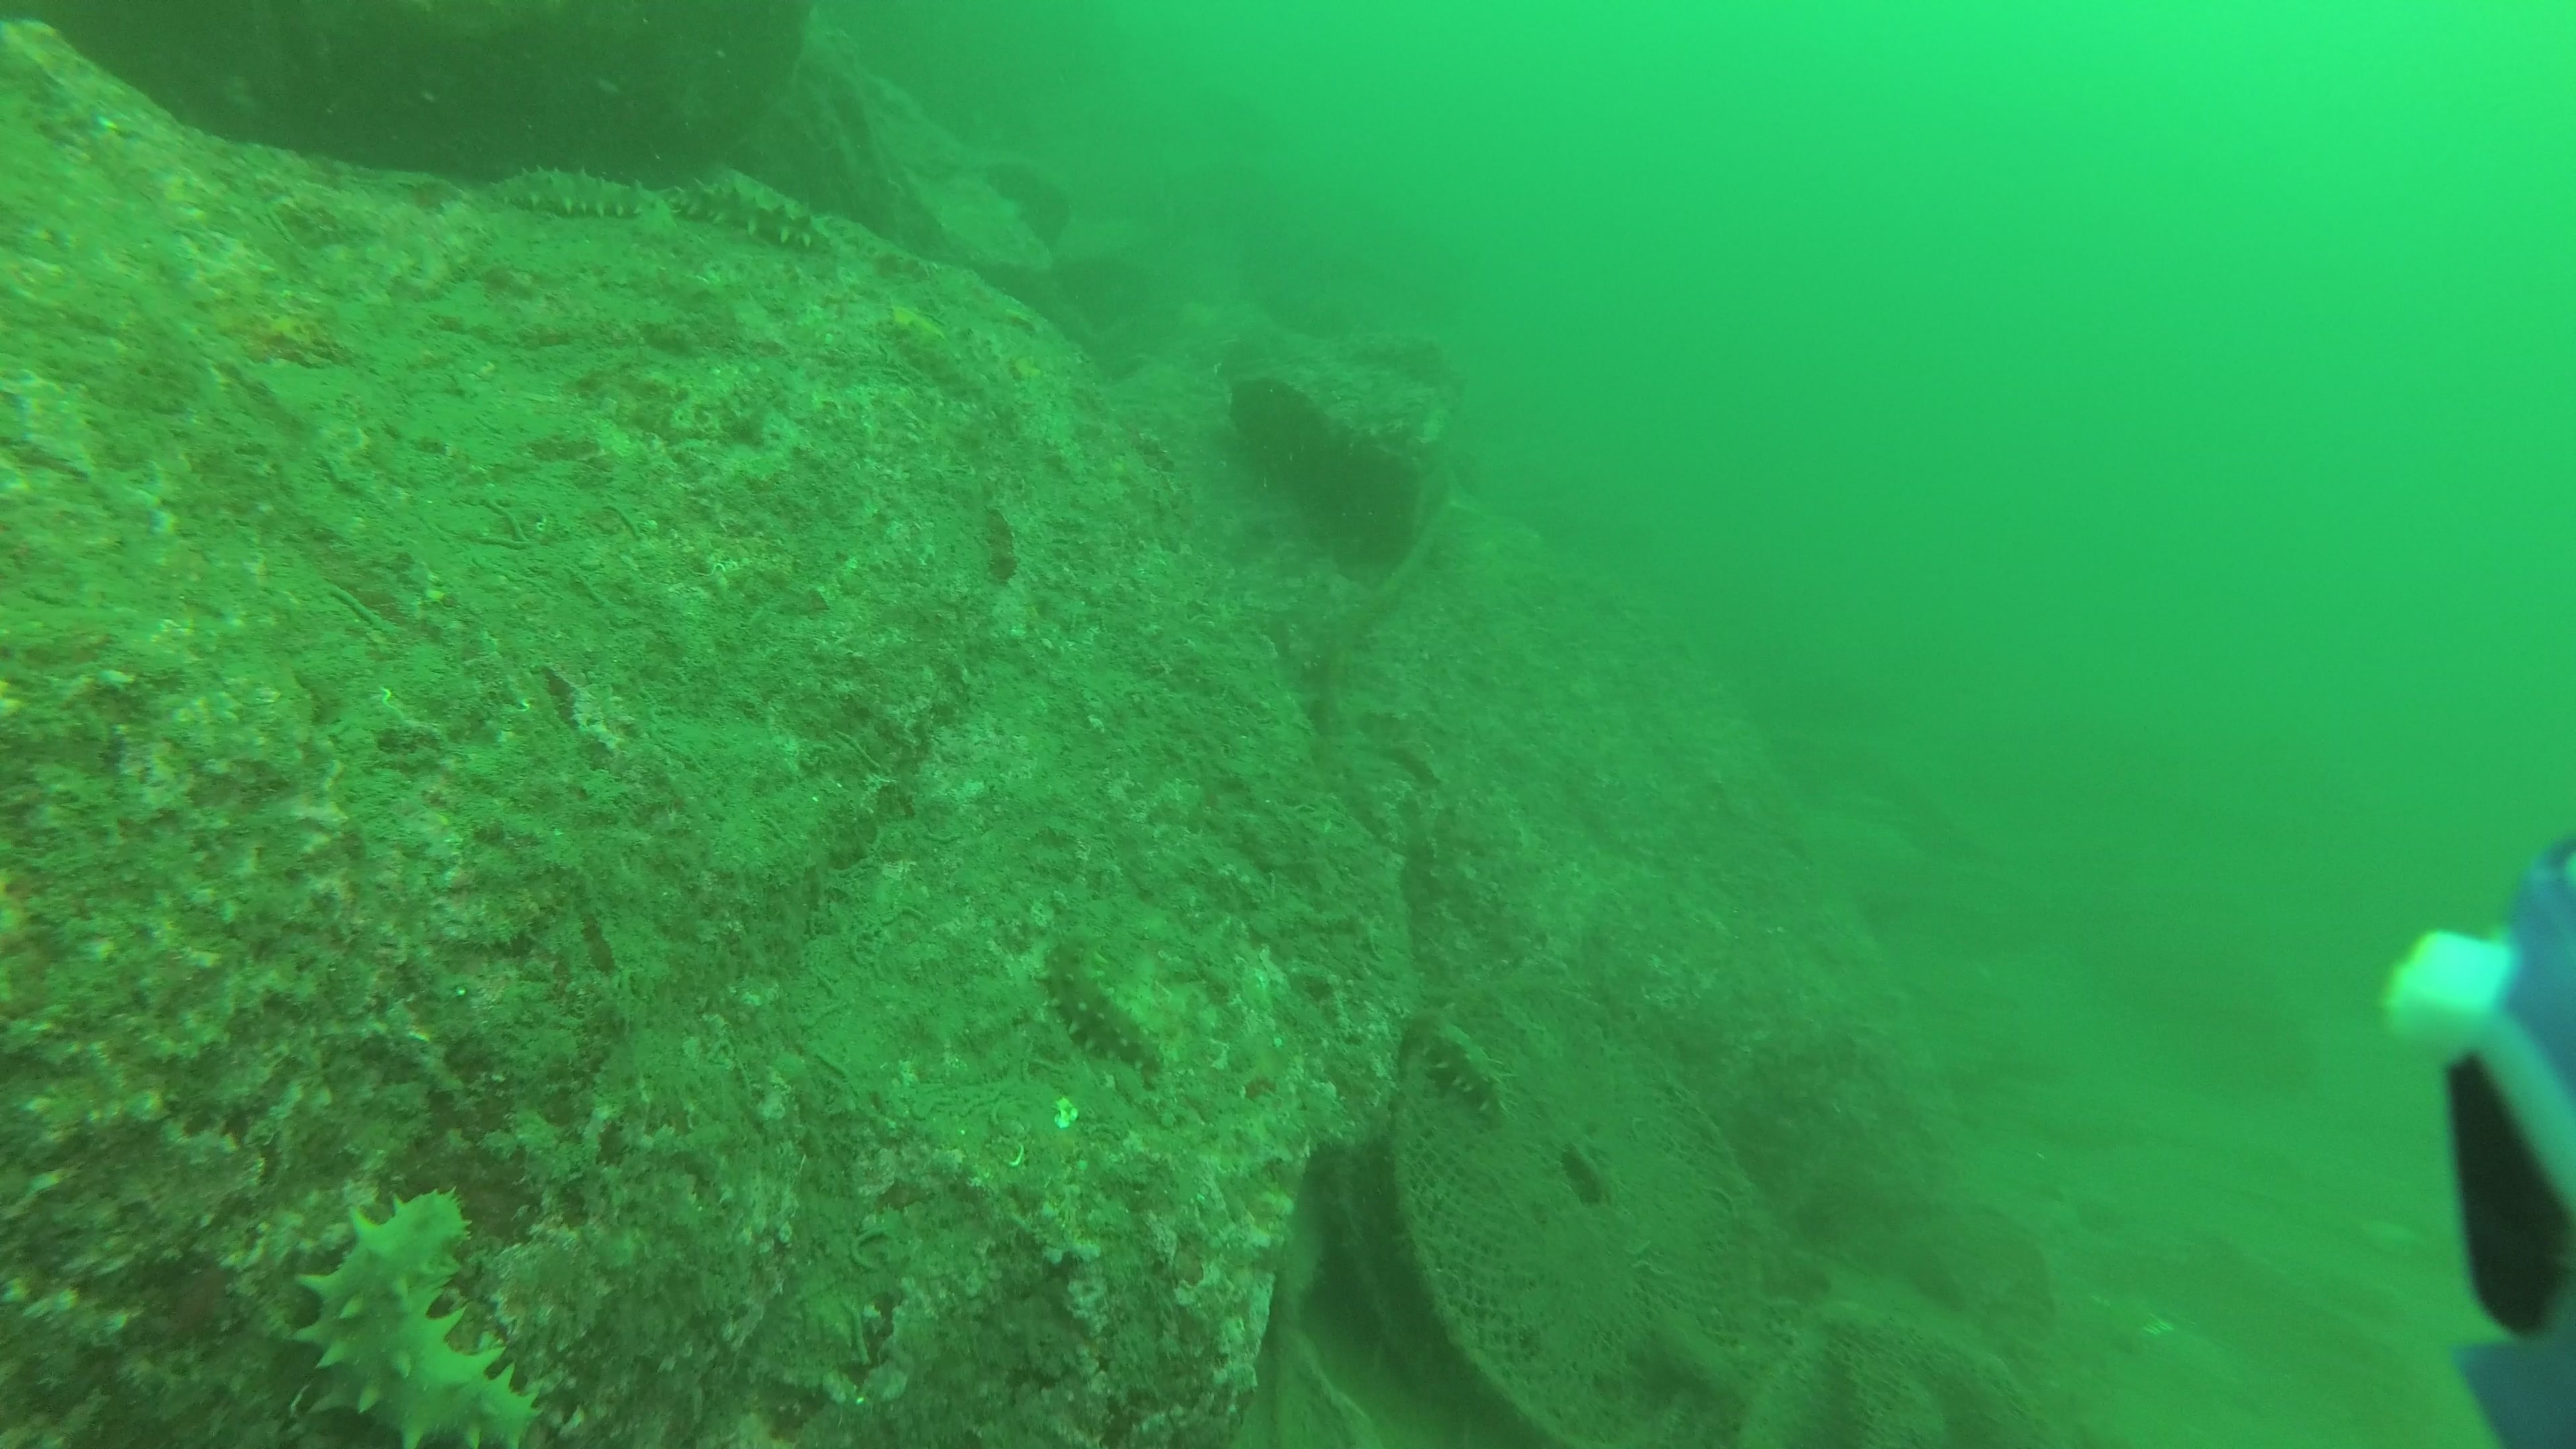holothurian: (280, 1180, 545, 1449), (1033, 913, 1169, 1077), (1398, 998, 1525, 1123), (478, 157, 686, 230), (669, 173, 840, 257)
